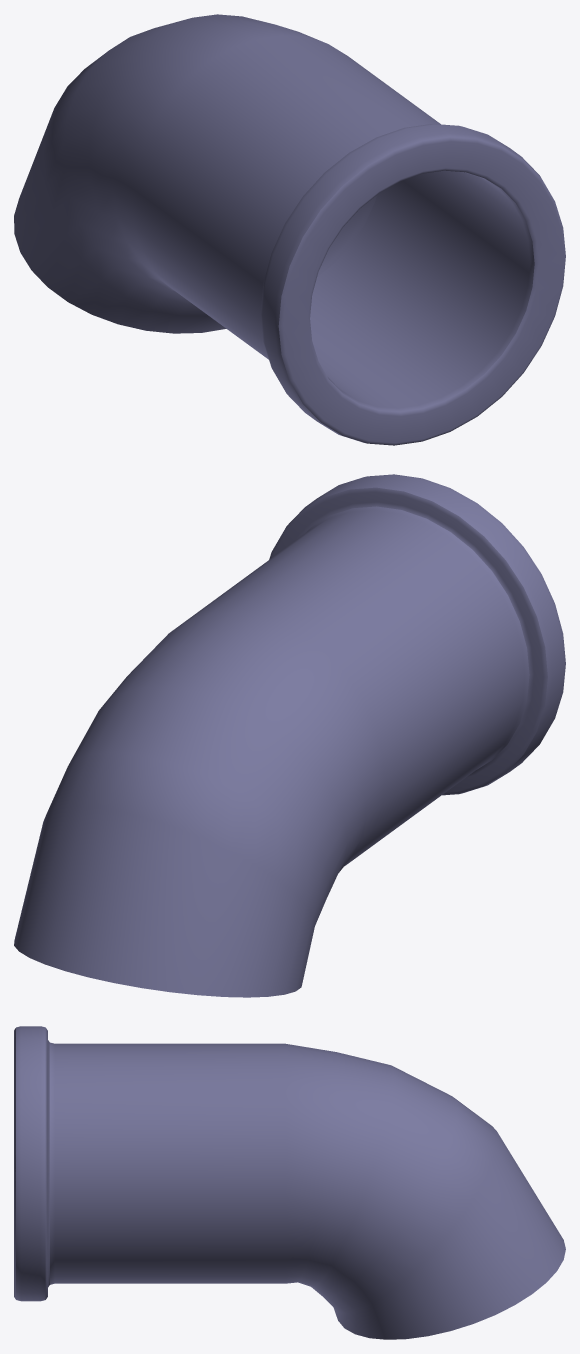
File: exittunel.fbx
3 renders of one model, top to bottom at view 1: azimuth 30°, elevation 25°; view 2: azimuth 150°, elevation 25°; view 3: azimuth 270°, elevation 25°, orthographic. The views are drawn at different scales.
Visible parts, largest first — view 1: exittunel; view 2: exittunel; view 3: exittunel.
Boxes of the visible parts, x1,y1,x2,y2 form: exittunel: [14, 14, 565, 445]; exittunel: [14, 474, 565, 997]; exittunel: [14, 1026, 565, 1339].
Size of the model in its own units: 11.95 by 13.05 by 23.95.
